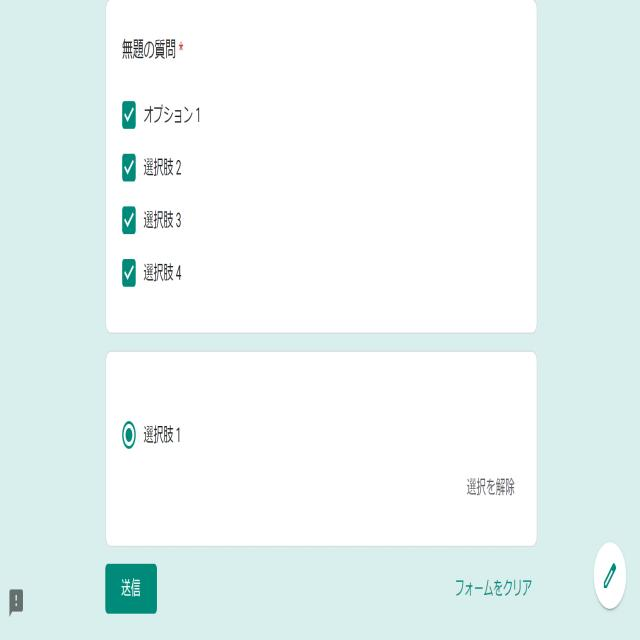checkbox: (121, 204, 136, 237), (121, 257, 136, 289), (122, 97, 136, 130), (122, 153, 136, 185)
radio: (122, 418, 136, 448)
